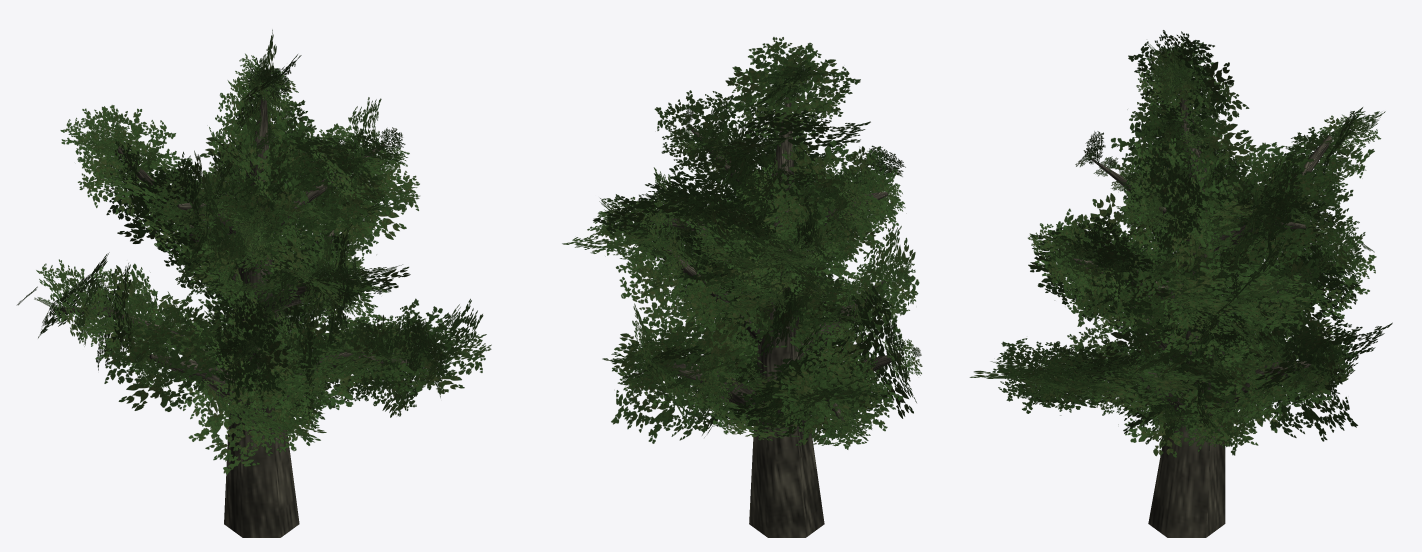
File: tree.glb
3 views of the same model, side by side, from view 1: azimuth 30°, elevation 25°; view 2: azimuth 150°, elevation 25°; view 3: azimuth 270°, elevation 25° (orthographic). The views are drawn at different scales.
Parts seen in each view (by area): view 1: Plane.031; view 2: Plane.031; view 3: Plane.031.
Part boxes in pixels (x1,y1,x2,y2): Plane.031: (16, 29, 491, 537); Plane.031: (562, 37, 922, 537); Plane.031: (969, 30, 1392, 537).
Size of the model in its own units: 6.16 by 8.02 by 6.24.
2 materials, 2 textured.
